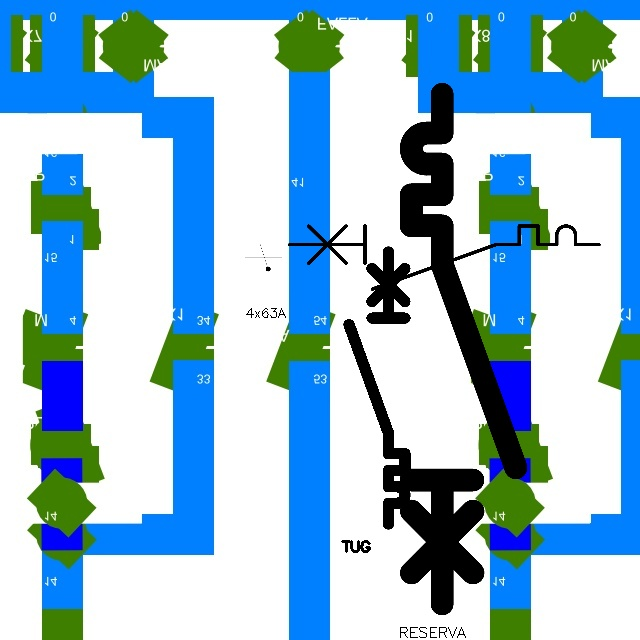interruptor_termomagnetico: (398, 81, 529, 617), (281, 218, 606, 297), (342, 245, 412, 531)
